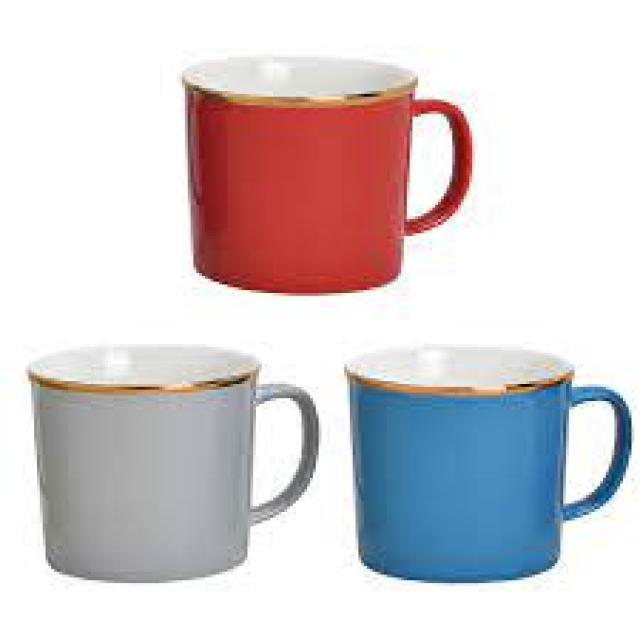taza: (160, 31, 482, 300), (11, 340, 334, 590), (329, 339, 635, 582)
